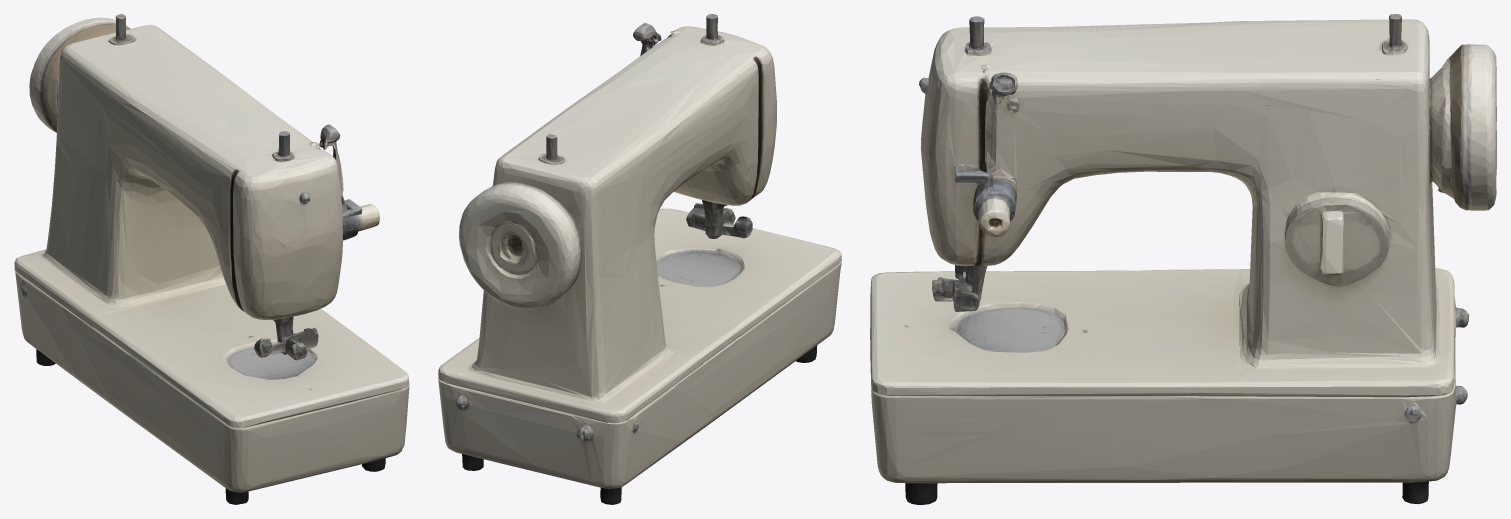
Rendered from sewing.glb.
The picture shows the model from 3 angles, left to right: view 1: azimuth 30°, elevation 25°; view 2: azimuth 150°, elevation 25°; view 3: azimuth 270°, elevation 25°; orthographic projection. The views are drawn at different scales.
Visible parts, largest first — view 1: geometry_0; view 2: geometry_0; view 3: geometry_0.
Boxes of the visible parts, bbox=[...] form: geometry_0: bbox=[14, 14, 409, 504]; geometry_0: bbox=[438, 14, 841, 504]; geometry_0: bbox=[870, 14, 1496, 504].
Size of the model in its own units: 0.4644 by 0.7687 by 0.9963.
Materials: 1 (1 with a texture image).
